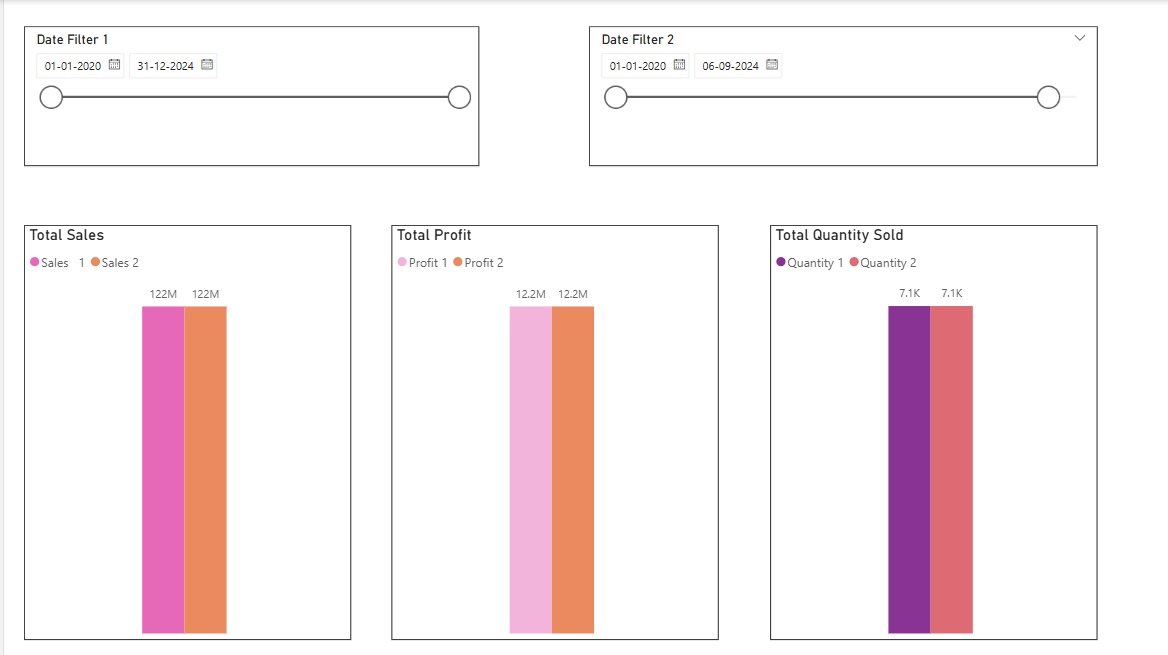

The dashboard page shown, as its layout file describes it:
{"tool":"powerbi","page":{"name":"Requirement","canvas":[1280,720],"ordinal":2},"visuals":[{"type":"slicer","fields":{"Values":["Date Table 1.Date"]},"box":[21.9,28.7,497.4,153],"z":0},{"type":"slicer","fields":{"Values":["Date Table 2.Date"]},"box":[639.5,28.7,556.1,153],"z":1000},{"type":"clusteredColumnChart","title":"Total Sales","fields":{"Y":["Sum(Fact Table.Net Sales   )","Date Table 1.Sum of Net Sales"]},"box":[21.9,245.9,358,453.6],"z":2000},{"type":"clusteredColumnChart","title":"Total Profit","fields":{"Y":["Sum(Fact Table.Profit)","Measures Table.Total Profit"]},"box":[423.6,245.9,358,453.6],"z":3000},{"type":"clusteredColumnChart","title":"Total Quantity Sold","fields":{"Y":["Sum(Fact Table.Units Sold)","Measures Table.Quantity Sold"]},"box":[837.6,245.9,358,453.6],"z":4000}]}

Visuals, with their boxes in screenshot pixels (x1, y1, x2, y2), scaled from the page's 1280x720 canvas onto the 1168x655 screenshot:
slicer - Date Table 1.Date: (x1=20, y1=26, x2=474, y2=165)
slicer - Date Table 2.Date: (x1=584, y1=26, x2=1091, y2=165)
"Total Sales" clusteredColumnChart: (x1=20, y1=224, x2=347, y2=636)
"Total Profit" clusteredColumnChart: (x1=387, y1=224, x2=713, y2=636)
"Total Quantity Sold" clusteredColumnChart: (x1=764, y1=224, x2=1091, y2=636)
